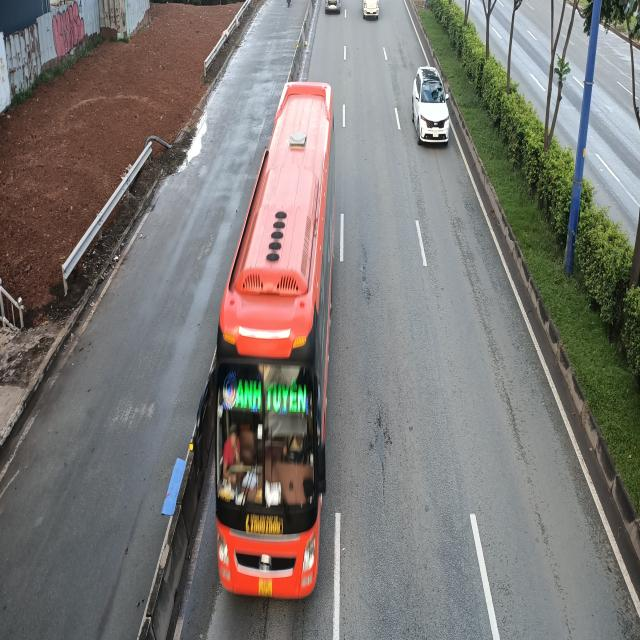car: (410, 65, 450, 148)
coach: (195, 75, 342, 612)
